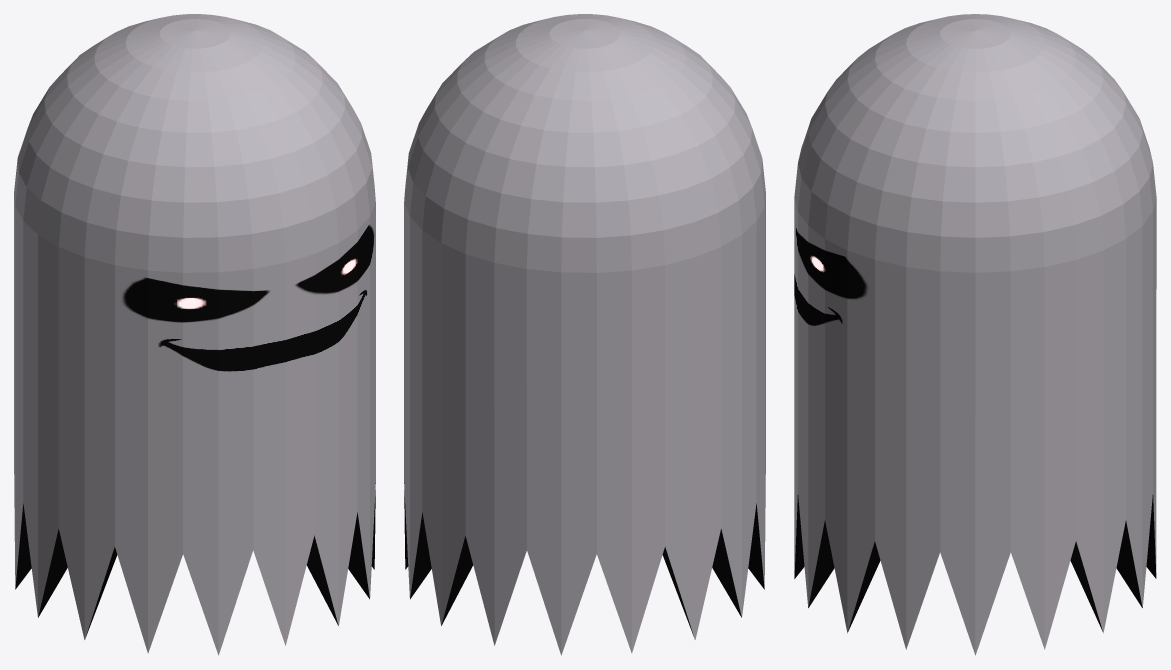
The model's file is Ghost.fbx.
The picture shows the model from 3 angles, left to right: view 1: azimuth 30°, elevation 25°; view 2: azimuth 150°, elevation 25°; view 3: azimuth 270°, elevation 25°; orthographic projection.
Parts seen in each view (by area): view 1: Cylinder; view 2: Cylinder; view 3: Cylinder.
Part boxes in pixels (x1,y1,x2,y2): Cylinder: [14, 14, 375, 655]; Cylinder: [404, 14, 765, 655]; Cylinder: [794, 14, 1156, 655].
Size of the model in its own units: 200 by 334 by 200.
